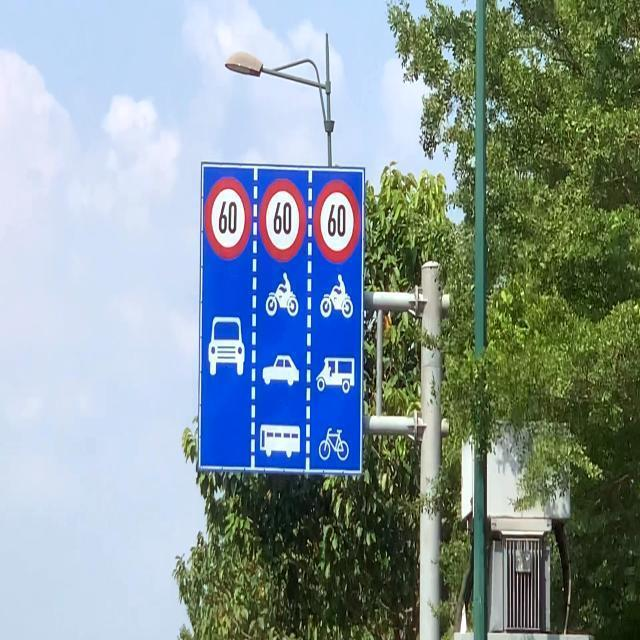127-toc-do-toi-da-60: (258, 177, 306, 261), (313, 178, 360, 262), (204, 176, 252, 258)
